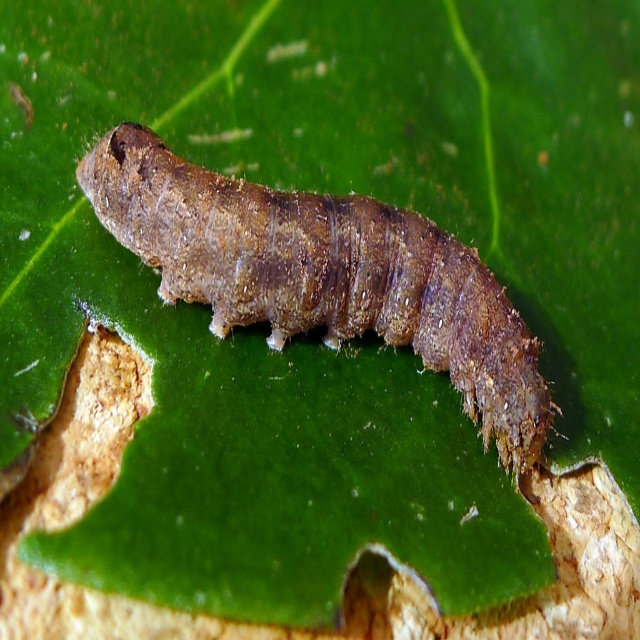Caterpillar: (74, 117, 564, 490)
